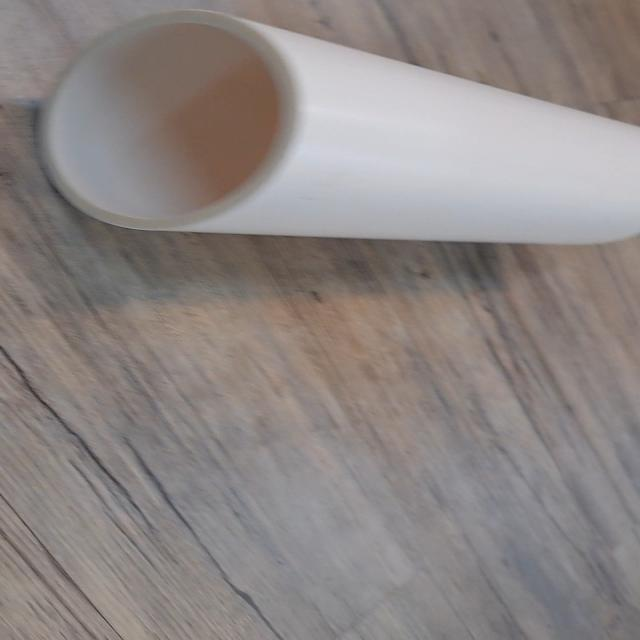CORAL: (15, 5, 640, 275)
